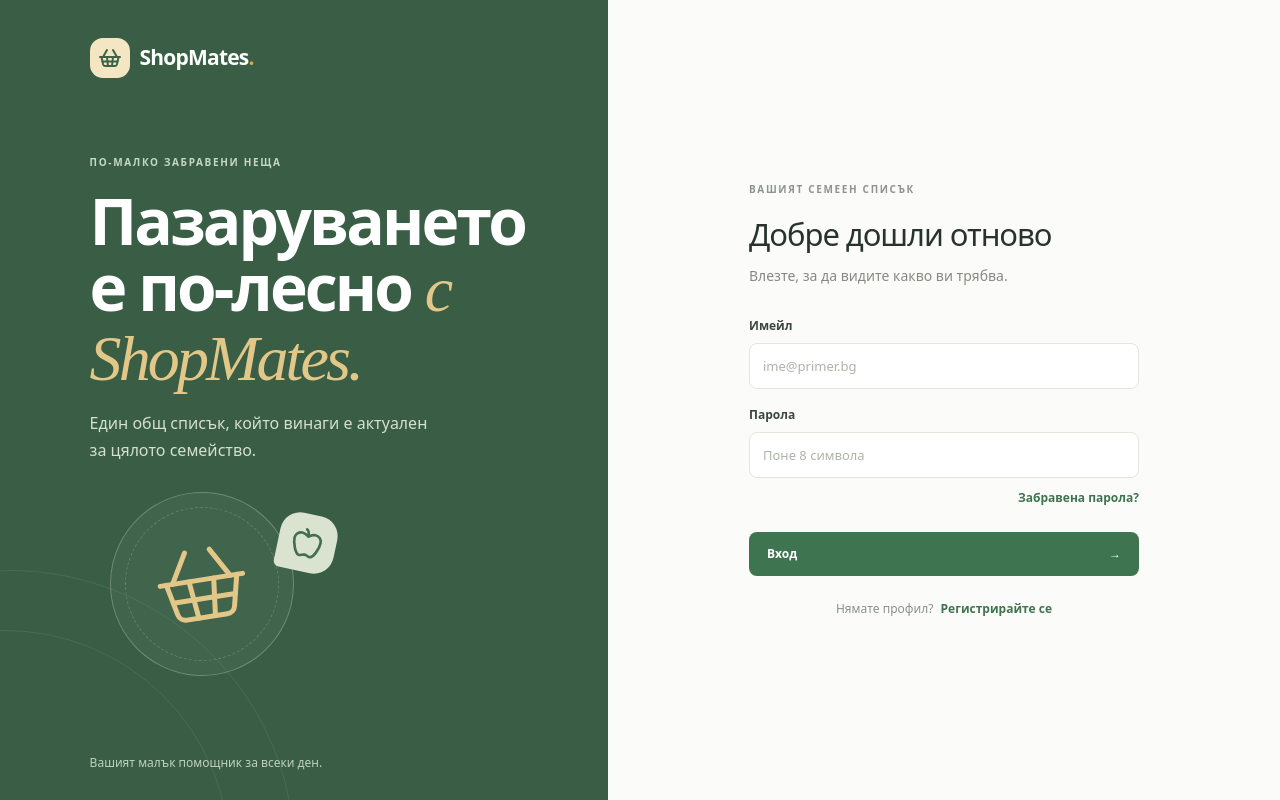
Test: authentication screen › submits email and password to the backend and reports rejected credentials
Type "person@example.test" into the field labelled "Имейл". click: (944, 366)
box: [749,343,1139,389]
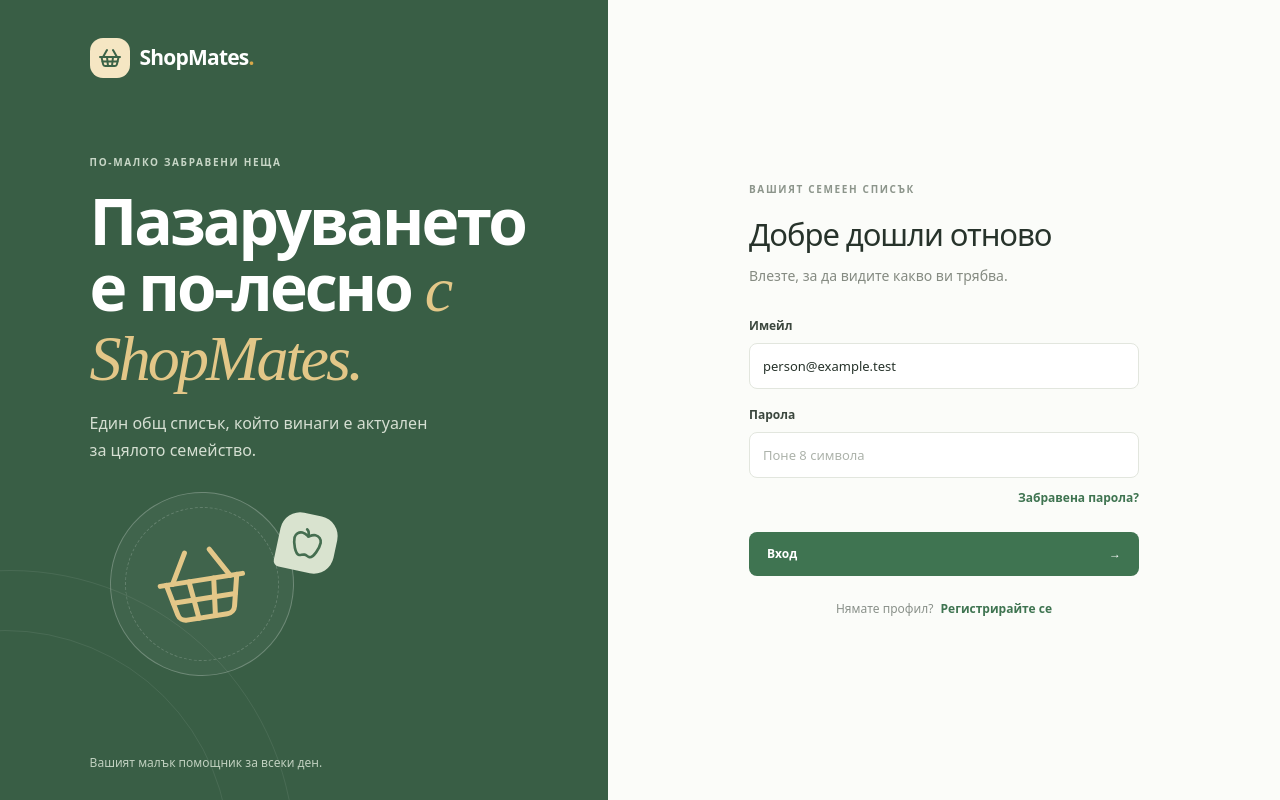
Type "valid-password" into the password field labelled "Парола". click: (944, 455)
box: [749,432,1139,478]
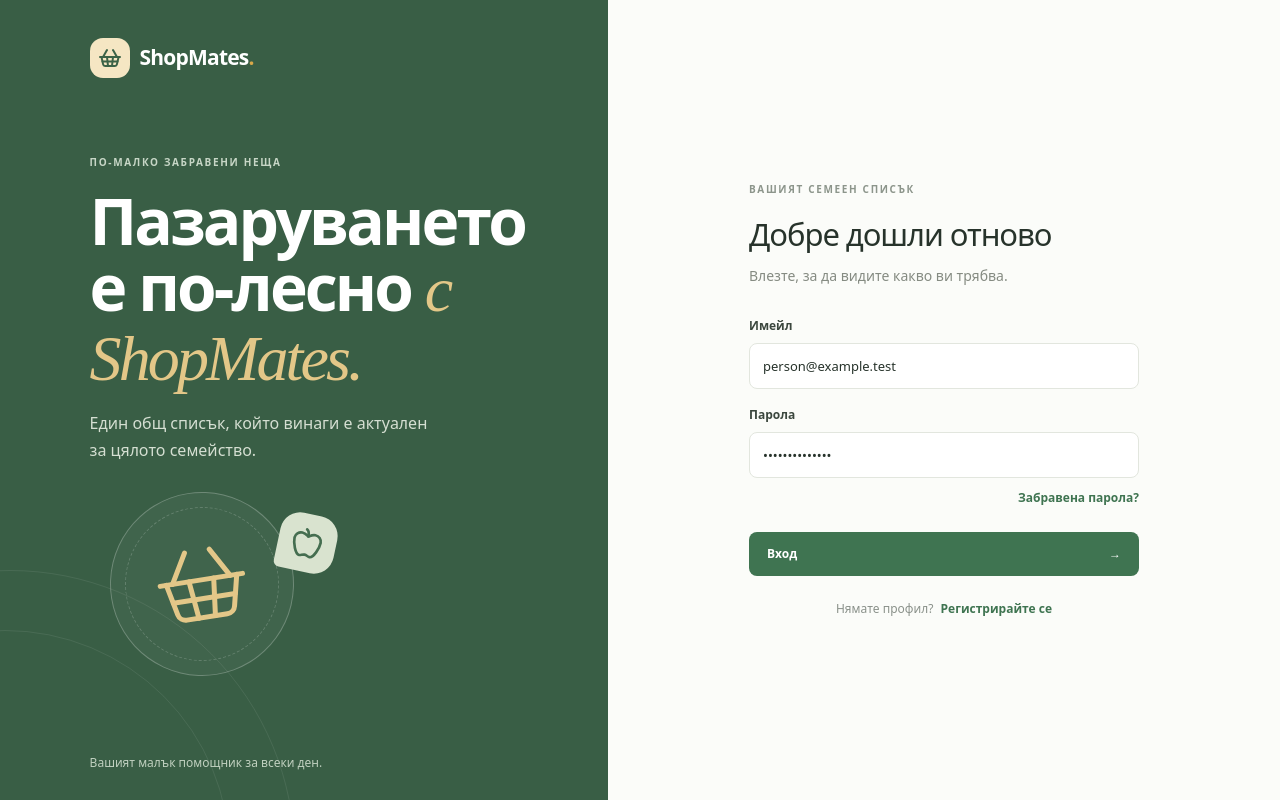
Click the button "Вход →". click: (782, 554)
box: [749,532,1139,576]
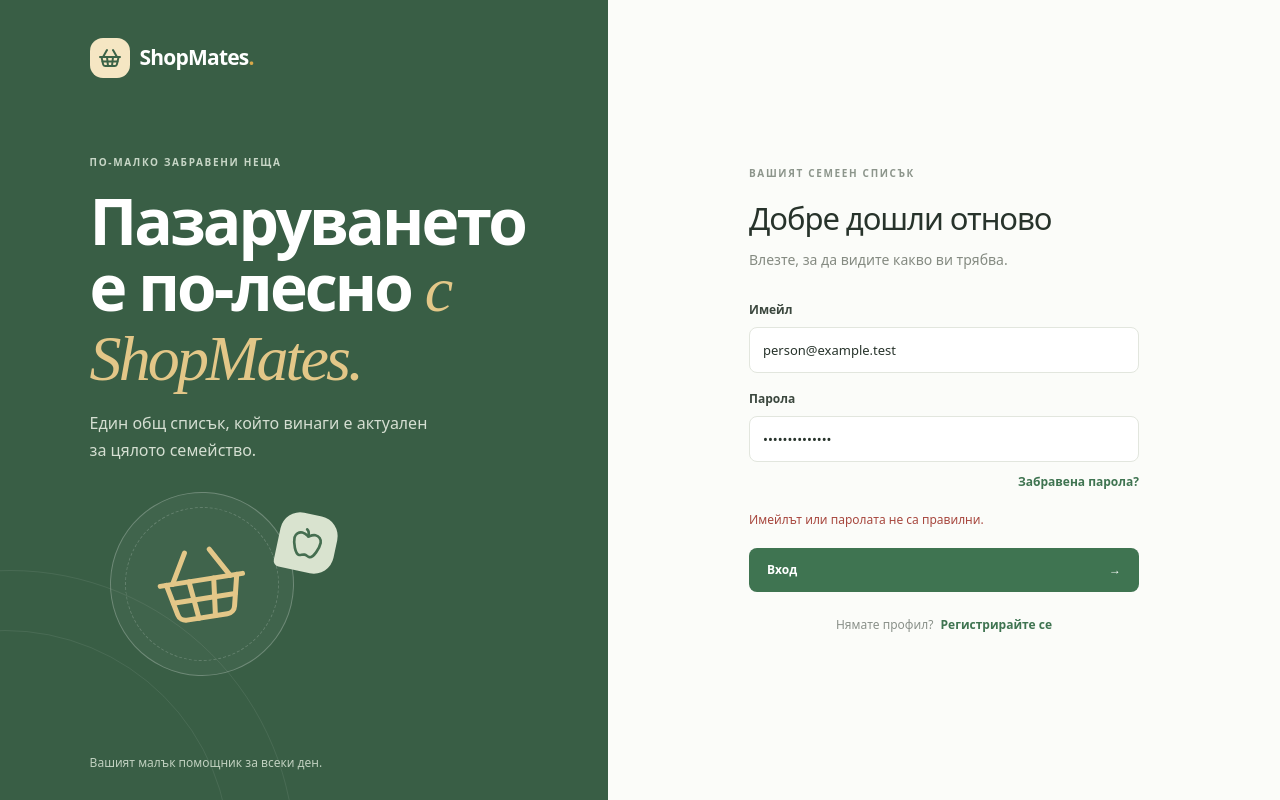
Result: the message reads "Имейлът или паролата не са правилни." at [749,511,984,528]
